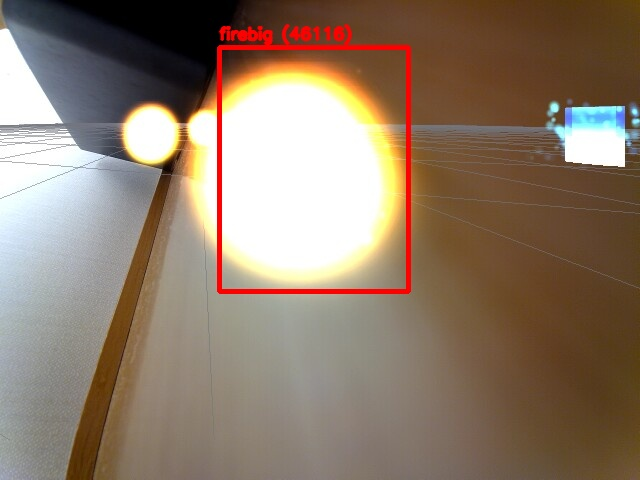firebig: (219, 47, 408, 291)
